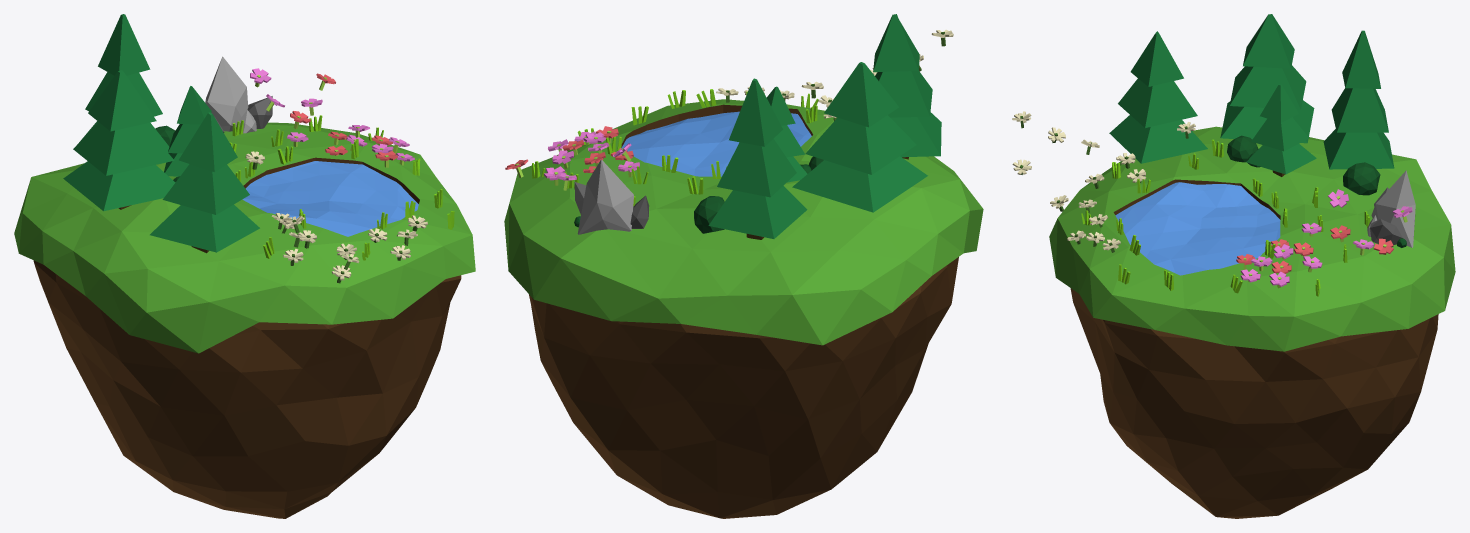
Rendered from lopoly island 3.glb.
The picture shows the model from 3 angles, left to right: view 1: azimuth 30°, elevation 25°; view 2: azimuth 150°, elevation 25°; view 3: azimuth 270°, elevation 25°; orthographic projection. The views are drawn at different scales.
Visible parts, largest first — view 1: dirt, grass, treee, pond water, tre, tree, Cube.018, rock 2, treee.001, Cube.074, Cube.169; view 2: dirt, grass, treee, tree, pond water, tre, rock 2, Cube.018, Cube.074, treee.001, bush 1; view 3: dirt, grass, pond water, tre, treee, tree, treee.001, Cube.018, Cube.074, rock 2, Cube.169, bush 1 (+2 smaller).
Boxes of the visible parts, x1,y1,x2,y2 form: dirt: (33, 260, 461, 518); grass: (14, 122, 475, 353); treee: (63, 70, 175, 211); pond water: (242, 161, 418, 236); tre: (150, 112, 259, 253); tree: (79, 14, 169, 151); Cube.018: (230, 115, 454, 260); rock 2: (205, 56, 248, 131); treee.001: (164, 86, 211, 176); Cube.074: (287, 125, 414, 167); Cube.169: (278, 215, 427, 265); dirt: (529, 257, 958, 518); grass: (504, 99, 983, 345); treee: (792, 62, 927, 212); tree: (708, 78, 807, 239); pond water: (621, 111, 811, 176); tre: (873, 14, 941, 159); rock 2: (577, 159, 633, 234); Cube.018: (532, 89, 818, 206); Cube.074: (548, 126, 639, 177); treee.001: (766, 86, 807, 182); bush 1: (694, 196, 724, 233); dirt: (1070, 288, 1438, 518); grass: (1049, 126, 1455, 351); pond water: (1115, 182, 1280, 275); tre: (1109, 31, 1207, 163); treee: (1220, 14, 1314, 143); tree: (1323, 30, 1394, 169); treee.001: (1246, 84, 1316, 176); Cube.018: (1081, 139, 1370, 296); Cube.074: (1236, 223, 1322, 288); rock 2: (1371, 170, 1415, 247); Cube.169: (1067, 169, 1146, 252); bush 1: (1343, 162, 1380, 195).
Size of the model in its own units: 2.28 by 2.66 by 2.39.
